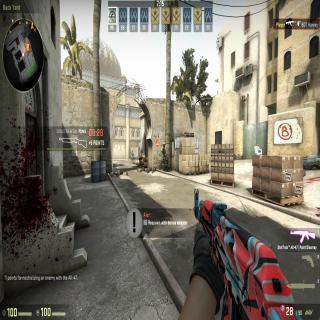CT-Body: (162, 142, 166, 165), (131, 150, 133, 162)
CT-Head: (163, 141, 165, 147), (131, 150, 133, 152)
